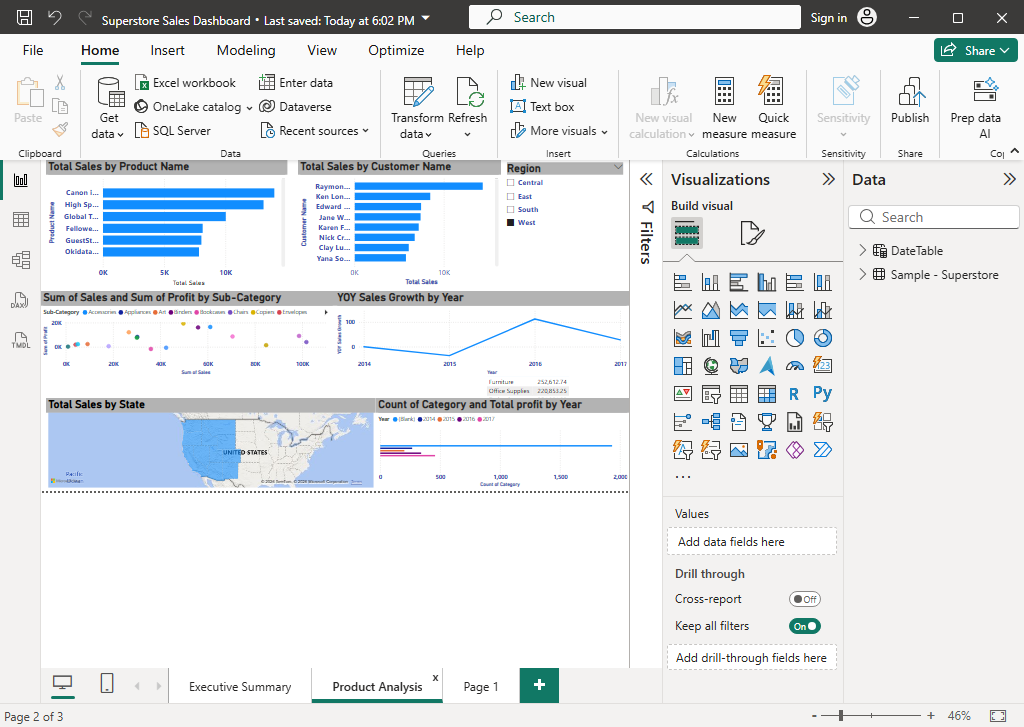

Layout of this report page (visuals, bound fields, positions):
{"tool":"powerbi","page":{"name":"Product Analysis","canvas":[1280,720],"ordinal":1},"visuals":[{"type":"barChart","fields":{"Category":["Sample - Superstore.Product Name"],"Y":["DateTable.Total Sales"]},"box":[10,0,525.6,279.4],"z":0},{"type":"tableEx","fields":{"Values":["Sample - Superstore.Category","DateTable.Total Sales"]},"box":[964.7,439.1,279.4,279.4],"z":1000},{"type":"scatterChart","fields":{"X":["Sum(Sample - Superstore.Sales)"],"Y":["Sum(Sample - Superstore.Profit)"],"Series":["Sample - Superstore.Sub-Category"]},"box":[0,285.2,640,187.2],"z":2000},{"type":"filledMap","fields":{"Category":["Sample - Superstore.State"]},"box":[10.9,518.1,718.4,200.3],"z":3000},{"type":"barChart","fields":{"Category":["Sample - Superstore.Customer Name"],"Y":["DateTable.Total Sales"]},"box":[559.5,0,441.9,278.6],"z":4000},{"type":"slicer","fields":{"Values":["Sample - Superstore.Region"]},"box":[1001.4,0,278.6,278.6],"z":5000},{"type":"lineChart","fields":{"Category":["DateTable.Year"],"Y":["DateTable.YOY Sales Growth"]},"box":[640,285.2,640,187.2],"z":6000},{"type":"clusteredBarChart","fields":{"Series":["DateTable.Year"],"Y":["CountNonNull(Sample - Superstore.Category)"]},"box":[728.5,518.9,552.2,199.6],"z":8000}]}

Visuals, with their boxes on the page's 1280x720 design canvas (x1, y1, x2, y2). These are canvas units, not pixel positions in the 1024x727 screenshot, which may show the page scaled, cropped or inside an application window:
barChart - Sample - Superstore.Product Name x DateTable.Total Sales: bbox=[10, 0, 536, 279]
tableEx - Sample - Superstore.Category x DateTable.Total Sales: bbox=[965, 439, 1244, 718]
scatterChart - Sum(Sample - Superstore.Sales) x Sum(Sample - Superstore.Profit): bbox=[0, 285, 640, 472]
filledMap - Sample - Superstore.State: bbox=[11, 518, 729, 718]
barChart - Sample - Superstore.Customer Name x DateTable.Total Sales: bbox=[560, 0, 1001, 279]
slicer - Sample - Superstore.Region: bbox=[1001, 0, 1280, 279]
lineChart - DateTable.Year x DateTable.YOY Sales Growth: bbox=[640, 285, 1280, 472]
clusteredBarChart - DateTable.Year x CountNonNull(Sample - Superstore.Category): bbox=[728, 519, 1281, 718]
